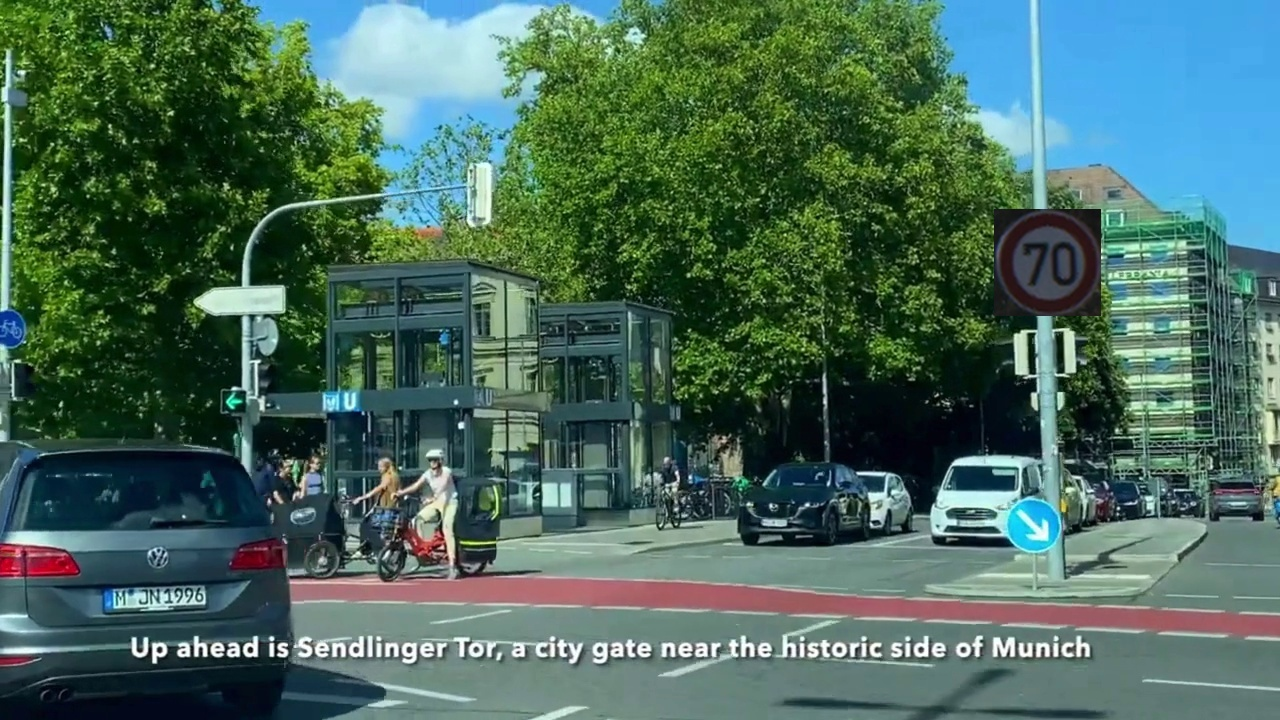Speed 70: (994, 209, 1101, 316)
